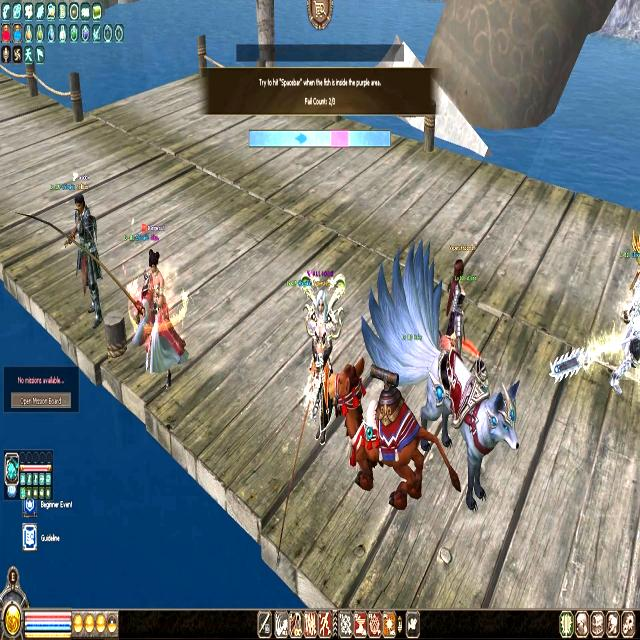fishes: (294, 131, 306, 145)
